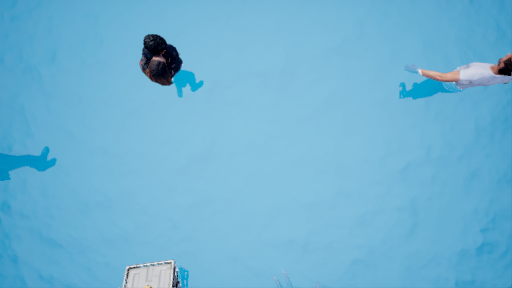person: (398, 53, 512, 117), (140, 33, 206, 102)
